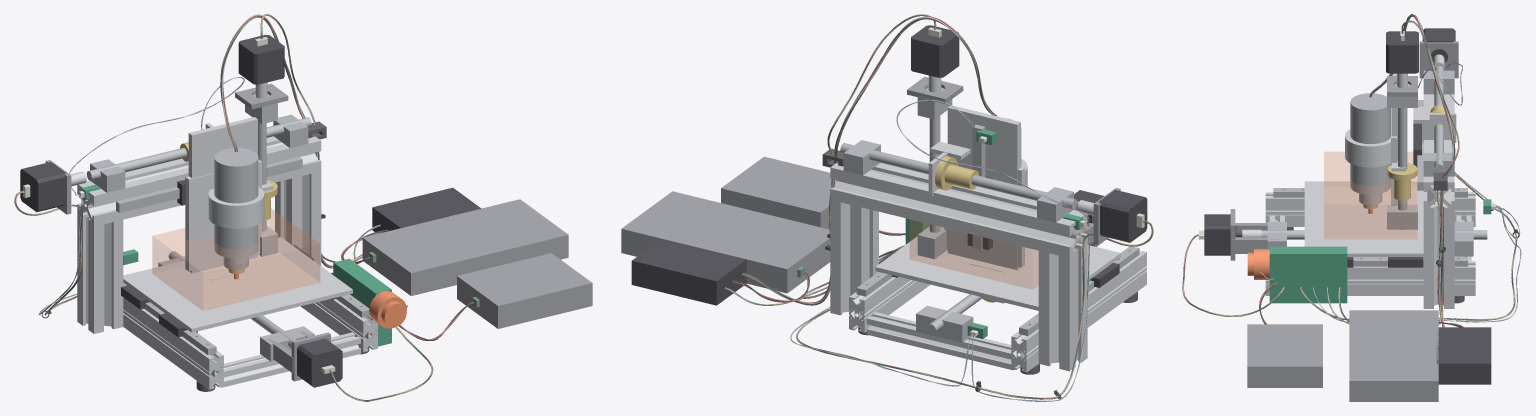
The model's file is cnc_v2.glb.
3 renders of one model, left to right at view 1: azimuth 30°, elevation 25°; view 2: azimuth 150°, elevation 25°; view 3: azimuth 270°, elevation 25°, orthographic. The views are drawn at different scales.
Visible parts, largest first — view 1: psu48, table, work_vol, psu24, beam, column_1, spindle, column_2, side_y1, holder, spdrv, zplate (+17 smaller); view 2: psu48, beam, table, column_1, psu24, spdrv, zplate, work_vol, column_2, cross_2, side_y1, side_y2 (+19 smaller); view 3: psu48, table, work_vol, psu24, ctrl, spindle, spdrv, side_y2, column_2, side_y1, beam, motor_z (+25 smaller).
Part boxes in pixels (x1,y1,x2,y2): psu48: [362, 199, 568, 295]; table: [123, 237, 352, 332]; work_vol: [152, 208, 319, 310]; psu24: [457, 253, 592, 328]; beam: [77, 136, 321, 226]; column_1: [77, 215, 123, 333]; spindle: [214, 148, 258, 269]; column_2: [275, 171, 321, 265]; side_y1: [123, 297, 223, 389]; holder: [185, 159, 261, 271]; spdrv: [372, 187, 481, 232]; zplate: [188, 117, 257, 273]; psu48: [621, 191, 830, 293]; beam: [830, 163, 1087, 257]; table: [875, 236, 1120, 310]; column_1: [1038, 245, 1087, 371]; psu24: [721, 156, 836, 229]; spdrv: [631, 239, 746, 305]; zplate: [947, 105, 1020, 269]; work_vol: [910, 208, 1086, 289]; column_2: [830, 200, 878, 315]; cross_2: [866, 312, 1013, 370]; side_y1: [1011, 251, 1146, 372]; side_y2: [849, 277, 930, 332]; psu48: [1349, 310, 1438, 401]; table: [1304, 181, 1423, 256]; work_vol: [1324, 152, 1416, 238]; psu24: [1247, 324, 1322, 387]; ctrl: [1269, 246, 1347, 303]; spindle: [1350, 93, 1390, 205]; spdrv: [1436, 327, 1491, 384]; side_y2: [1265, 261, 1475, 295]; column_2: [1423, 201, 1454, 308]; side_y1: [1265, 192, 1475, 226]; beam: [1423, 94, 1454, 210]; motor_z: [1386, 31, 1418, 73].
Bounding box in the file's own units: 0.6895 × 0.3815 × 0.4363.
